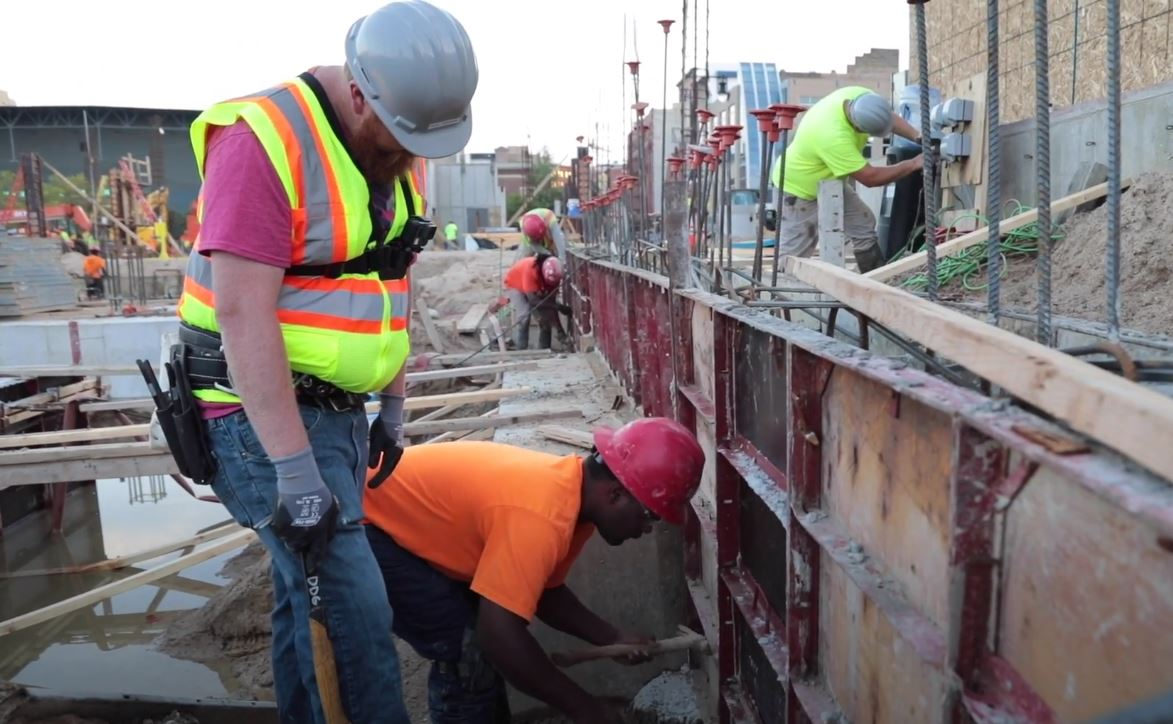Safety Helmet: (327, 2, 503, 186), (554, 389, 721, 555), (829, 76, 909, 150)
